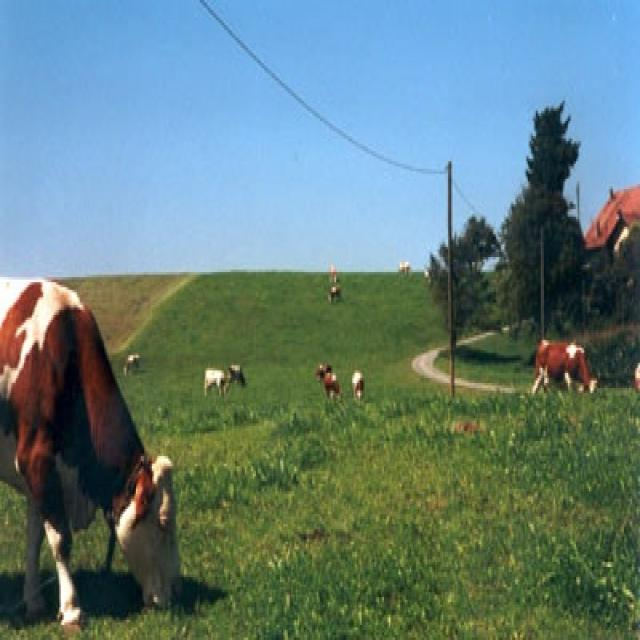cow: (0, 277, 182, 630), (530, 332, 598, 390)
